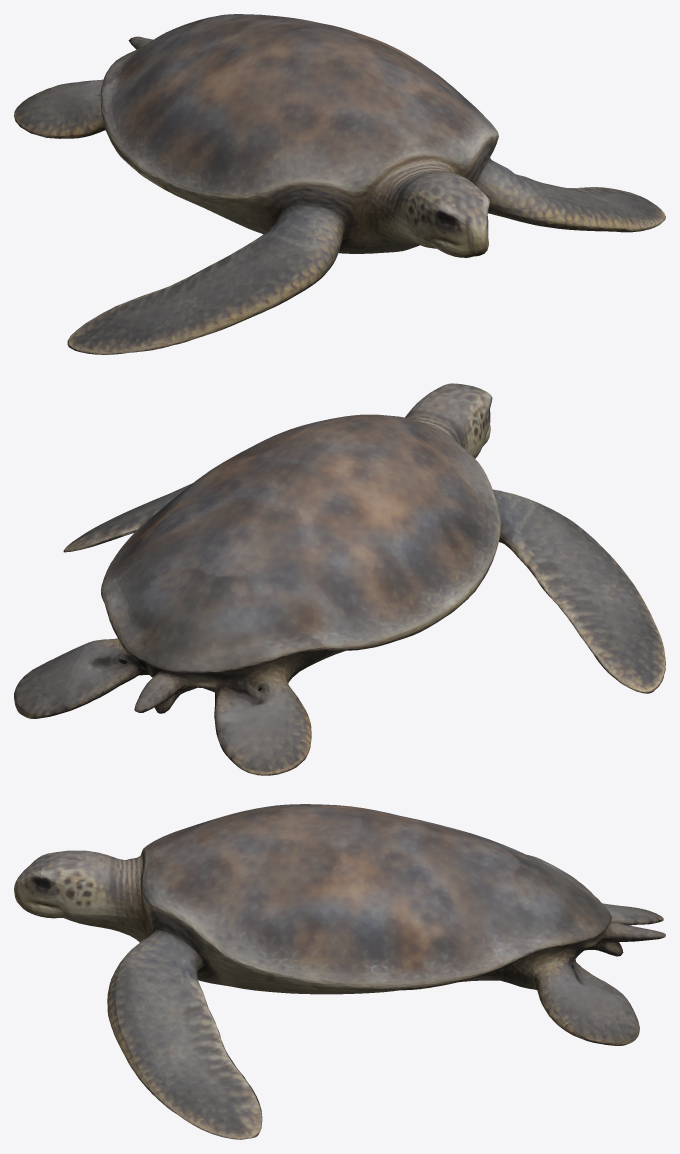
The picture shows the model from 3 angles, top to bottom: view 1: azimuth 30°, elevation 25°; view 2: azimuth 150°, elevation 25°; view 3: azimuth 270°, elevation 25°; orthographic projection. The views are drawn at different scales.
Parts seen in each view (by area): view 1: world; view 2: world; view 3: world.
Boxes of the visible parts, left/top/right/bottom form: world: left=14, top=14, right=665, bottom=354; world: left=14, top=383, right=665, bottom=775; world: left=14, top=804, right=665, bottom=1139.
Bounding box in the file's own units: 0.9721 × 0.3269 × 1.
1 material, 1 textured.
